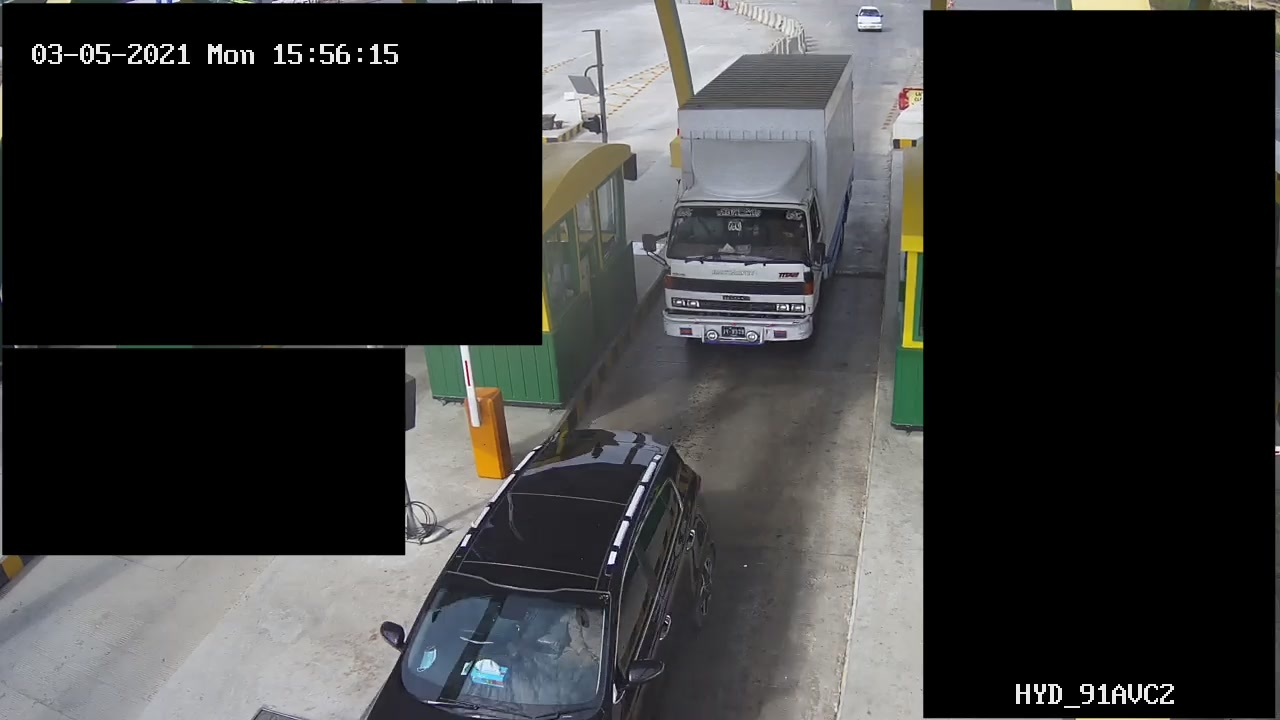F5: (653, 46, 867, 352)
